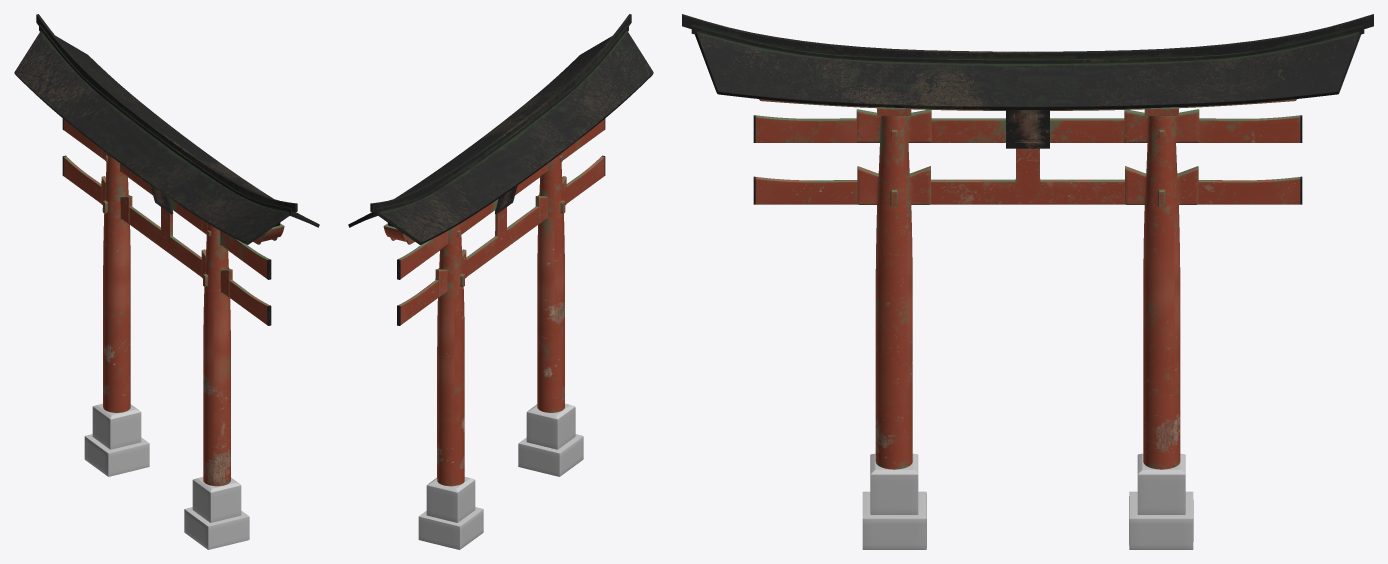
File: Torii_Gate_v0001.fbx
3 views of the same model, side by side, from view 1: azimuth 30°, elevation 25°; view 2: azimuth 150°, elevation 25°; view 3: azimuth 270°, elevation 25° (orthographic). The views are drawn at different scales.
Parts seen in each view (by area): view 1: Cube.019, Cylinder.001, Cube.013, Cube.024, Cube.023, Cube.021, Cube.020; view 2: Cube.019, Cylinder.001, Cube.013, Cube.024, Cube.023, Cube.021, Cube.020; view 3: Cube.019, Cylinder.001, Cube.013, Cube.021, Cube.024, Cube.023, Cube.020, Cube.017, Cube.025.
Part boxes in pixels (bbox=[...]): Cube.019: bbox=[14, 31, 319, 244]; Cylinder.001: bbox=[101, 149, 232, 486]; Cube.013: bbox=[63, 119, 269, 325]; Cube.024: bbox=[84, 434, 249, 549]; Cube.023: bbox=[92, 403, 241, 522]; Cube.021: bbox=[36, 14, 297, 212]; Cube.020: bbox=[39, 24, 294, 214]; Cube.019: bbox=[348, 31, 653, 244]; Cylinder.001: bbox=[435, 149, 566, 486]; Cube.013: bbox=[398, 119, 604, 324]; Cube.024: bbox=[418, 434, 583, 549]; Cube.023: bbox=[426, 403, 575, 522]; Cube.021: bbox=[370, 14, 631, 212]; Cube.020: bbox=[373, 24, 628, 214]; Cube.019: bbox=[695, 32, 1361, 109]; Cylinder.001: bbox=[856, 109, 1199, 469]; Cube.013: bbox=[755, 115, 1300, 204]; Cube.021: bbox=[682, 14, 1373, 59]; Cube.024: bbox=[862, 491, 1193, 549]; Cube.023: bbox=[870, 453, 1185, 514]; Cube.020: bbox=[691, 25, 1364, 63]; Cube.017: bbox=[1006, 110, 1049, 148]; Cube.025: bbox=[1015, 110, 1040, 141].
Size of the model in its own units: 139 by 706 by 848.
